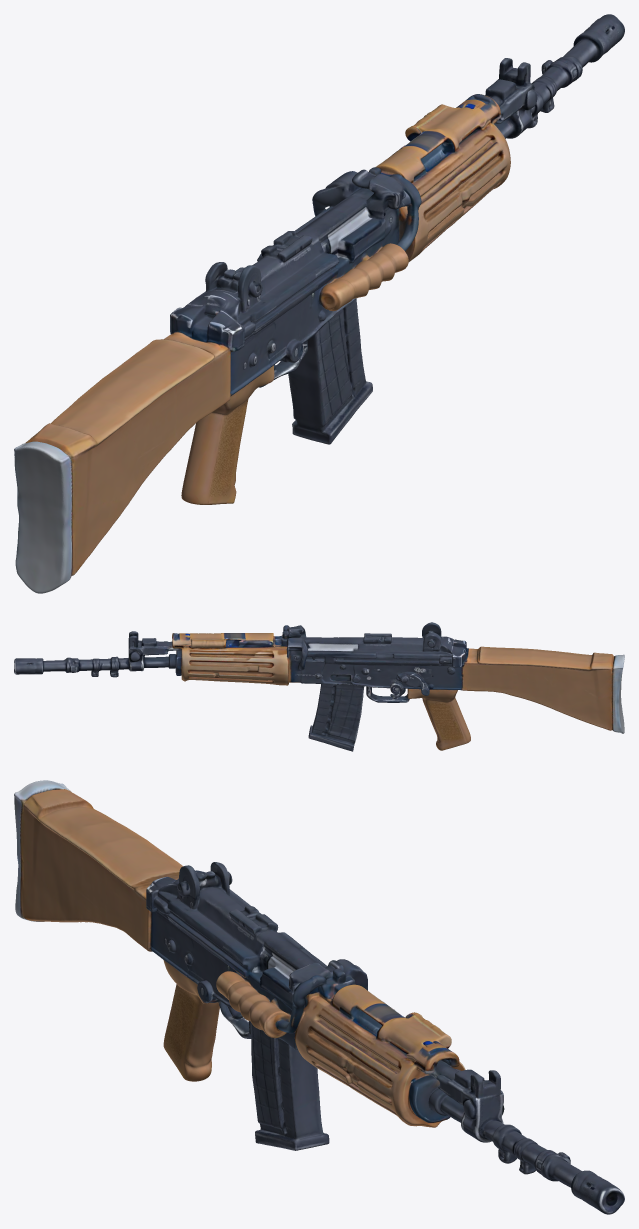
Rendered from insas.glb.
3 views of the same model, one above another, from view 1: azimuth 30°, elevation 25°; view 2: azimuth 150°, elevation 25°; view 3: azimuth 270°, elevation 25° (orthographic). The views are drawn at different scales.
Parts seen in each view (by area): view 1: Object_01; view 2: Object_01; view 3: Object_01.
Boxes of the visible parts, <box> form: Object_01: <box>14,14,624,593</box>; Object_01: <box>14,622,624,751</box>; Object_01: <box>14,780,624,1214</box>.
Bounding box in the file's own units: 1 × 0.2497 × 0.6193.
Materials: 1 (1 with a texture image).
